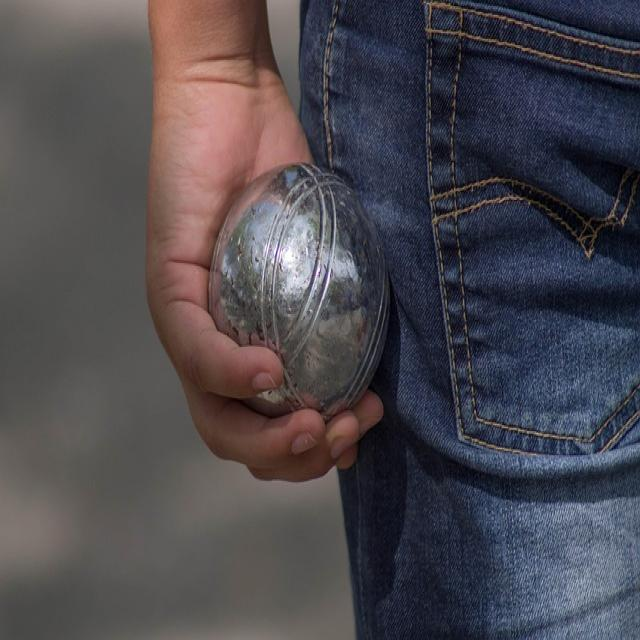petanque: (208, 158, 393, 421)
